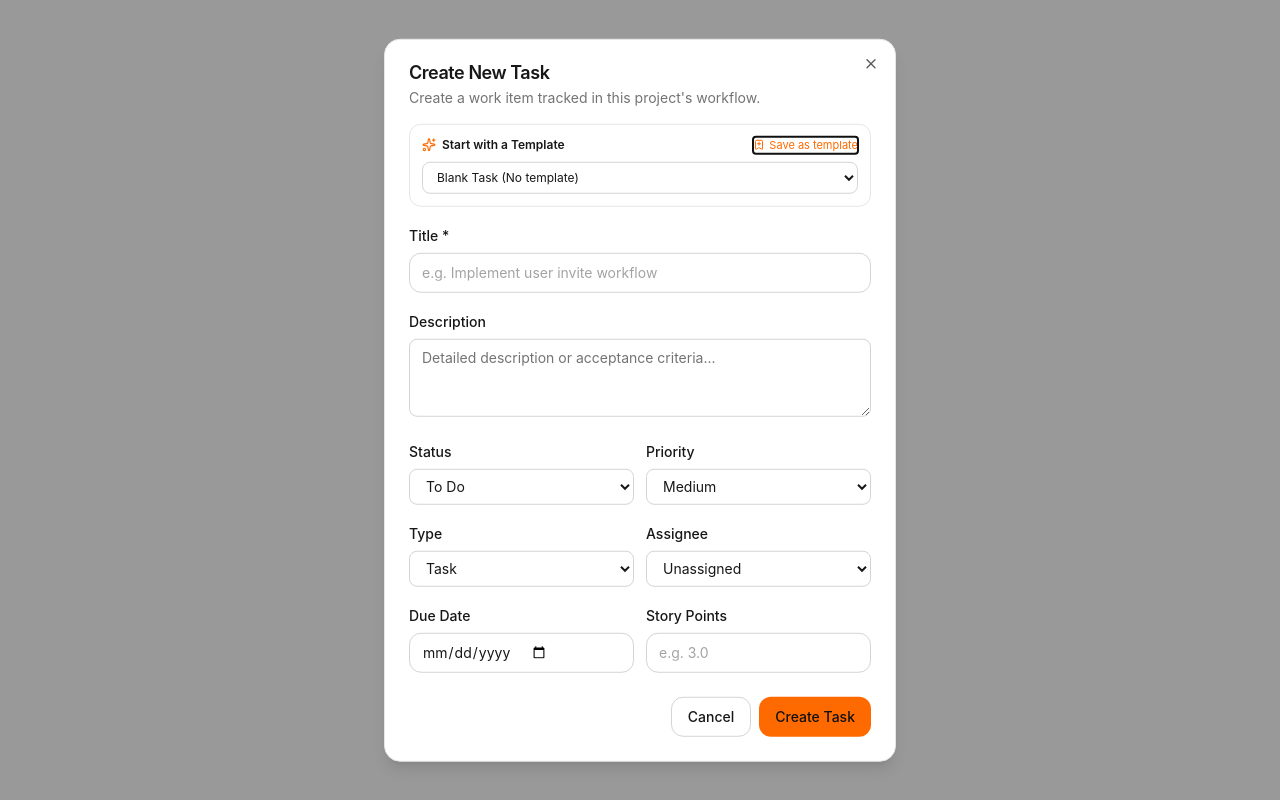
Test case: TaskModal › applies a standard template and populates title, description, and priority
The width and height of the screenshot is (1280, 800).
Select "Bug Report (bug)" in the dropdown labelled "Start with a Template" at (640, 177), box [422,161,858,193]
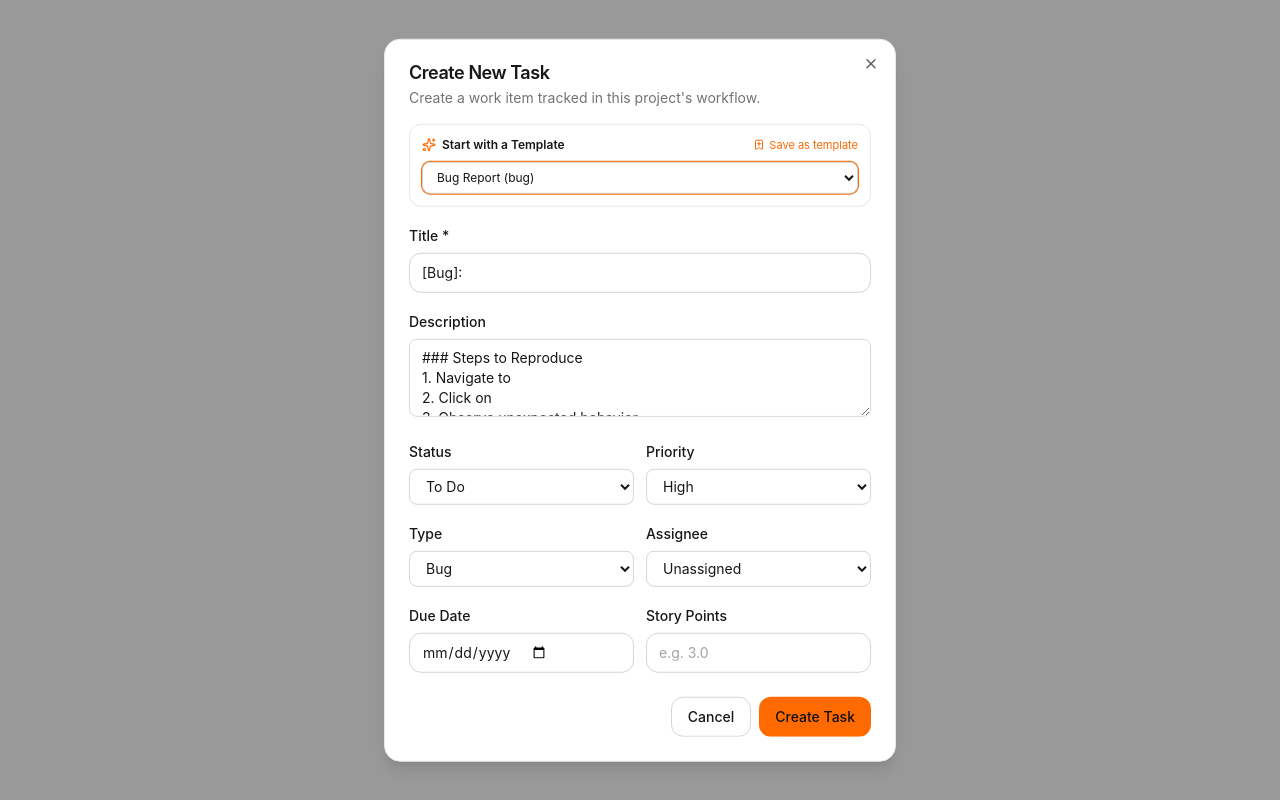
Expected: the field labelled "Title *" holds "[Bug]: ", [409,252,871,292]
Expected: the dropdown labelled "Priority" shows "High", [646,468,871,504]
Expected: the dropdown labelled "Type" shows "Bug", [409,550,634,586]
